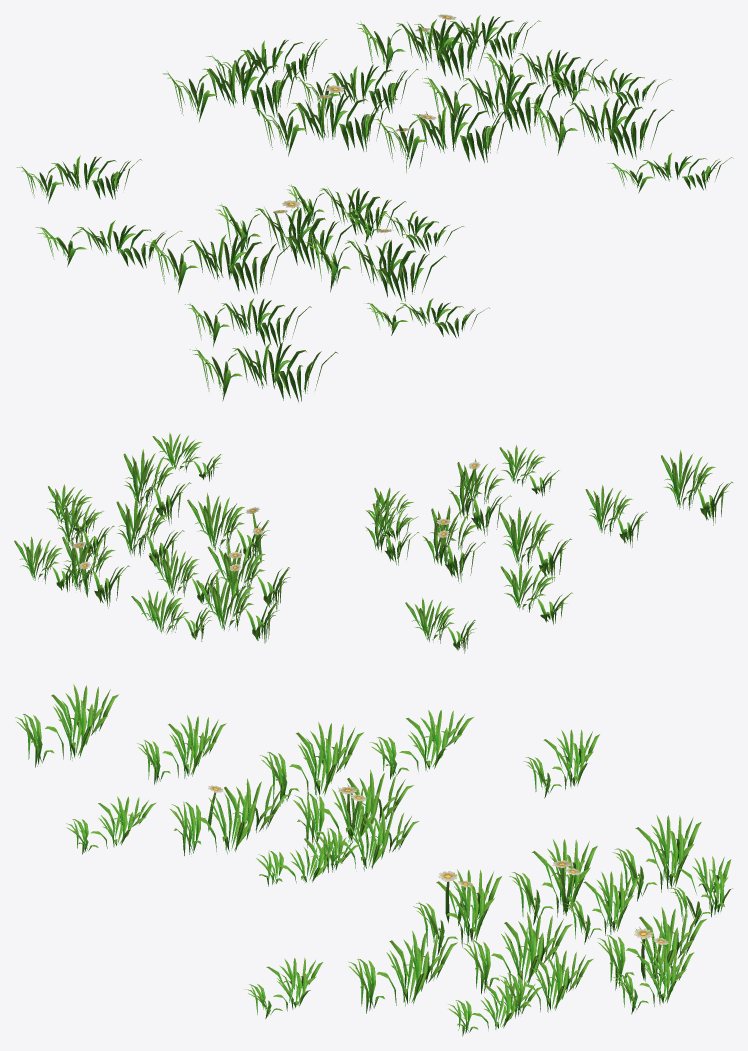
File: huahua_06.fbx
3 renders of one model, top to bottom at view 1: azimuth 30°, elevation 25°; view 2: azimuth 150°, elevation 25°; view 3: azimuth 270°, elevation 25°, orthographic. The views are drawn at different scales.
Visible parts, largest first — view 1: polySurface7590; view 2: polySurface7590; view 3: polySurface7590.
Part boxes in pixels (x1=…): polySurface7590: x1=16, y1=14, x2=733, y2=402; polySurface7590: x1=14, y1=432, x2=732, y2=653; polySurface7590: x1=15, y1=684, x2=732, y2=1036.
Bounding box in the file's own units: 1559 × 157 × 1471.
